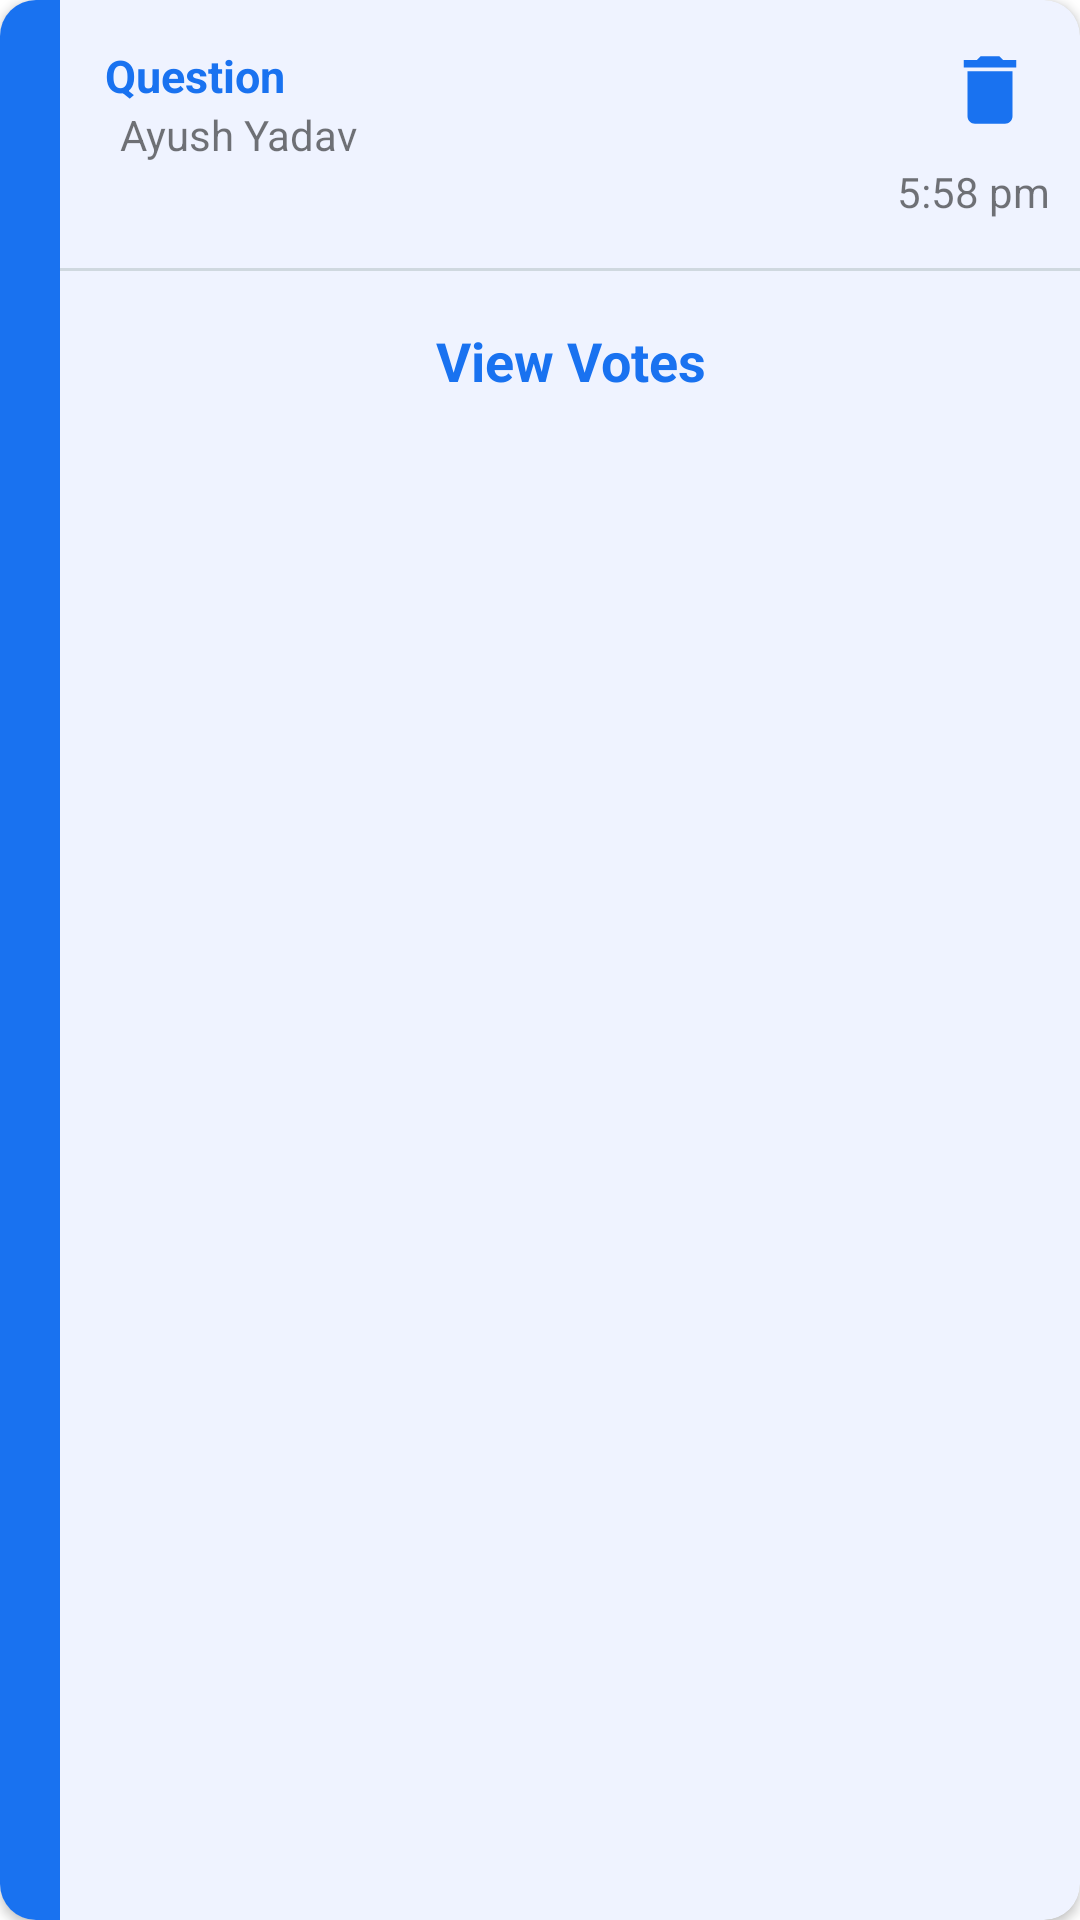

Icon click points for this 1080*1920 phone screenshot, format (x=x, y=y):
delete: (x=990, y=90)
